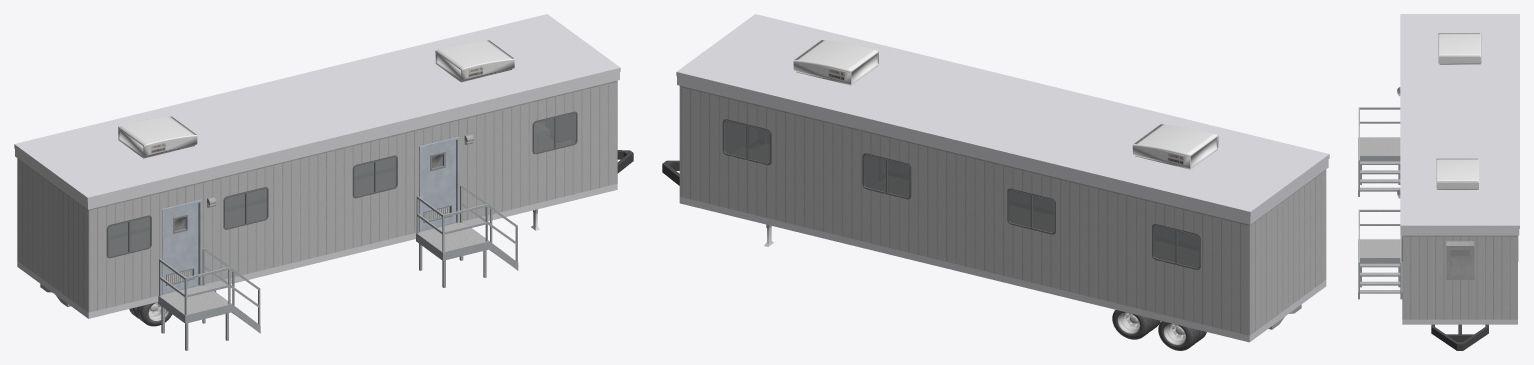
File: jobsite-trailer-10x50.glb
The picture shows the model from 3 angles, left to right: view 1: azimuth 30°, elevation 25°; view 2: azimuth 150°, elevation 25°; view 3: azimuth 270°, elevation 25°; orthographic projection. The views are drawn at different scales.
Visible parts, largest first — view 1: Geom3D_7, Geom3D_10, Geom3D_3, Geom3D_8, Geom3D_13, Geom3D_16, Geom3D_9, Geom3D_12, Geom3D_4, Geom3D_23; view 2: Geom3D_7, Geom3D_10, Geom3D_13, Geom3D_16, Geom3D_12, Geom3D_4, Geom3D_35, Geom3D_31; view 3: Geom3D_10, Geom3D_7, Geom3D_16, Geom3D_8, Geom3D_9, Geom3D_4, Geom3D_26, Geom3D_24.
Part boxes in pixels (x1=…): Geom3D_7: x1=17, y1=82, x2=617, y2=312; Geom3D_10: x1=14, y1=14, x2=620, y2=318; Geom3D_3: x1=162, y1=137, x2=459, y2=295; Geom3D_8: x1=158, y1=185, x2=518, y2=350; Geom3D_13: x1=108, y1=113, x2=575, y2=256; Geom3D_16: x1=118, y1=40, x2=514, y2=158; Geom3D_9: x1=161, y1=222, x2=485, y2=314; Geom3D_12: x1=106, y1=111, x2=577, y2=258; Geom3D_4: x1=17, y1=80, x2=617, y2=306; Geom3D_23: x1=166, y1=152, x2=451, y2=285; Geom3D_7: x1=679, y1=87, x2=1326, y2=335; Geom3D_10: x1=676, y1=14, x2=1329, y2=342; Geom3D_13: x1=724, y1=121, x2=1198, y2=267; Geom3D_16: x1=793, y1=40, x2=1218, y2=169; Geom3D_12: x1=722, y1=119, x2=1200, y2=269; Geom3D_4: x1=679, y1=86, x2=1326, y2=329; Geom3D_35: x1=1112, y1=310, x2=1206, y2=350; Geom3D_31: x1=764, y1=227, x2=1186, y2=345; Geom3D_10: x1=1400, y1=14, x2=1519, y2=324; Geom3D_7: x1=1402, y1=236, x2=1517, y2=319; Geom3D_16: x1=1397, y1=33, x2=1481, y2=198; Geom3D_8: x1=1358, y1=107, x2=1402, y2=299; Geom3D_9: x1=1360, y1=137, x2=1400, y2=292; Geom3D_4: x1=1402, y1=235, x2=1517, y2=279; Geom3D_26: x1=1431, y1=324, x2=1488, y2=350; Geom3D_24: x1=1450, y1=250, x2=1469, y2=265.
Bounding box in the file's own units: 15.08 × 4.2 × 4.47.
Materials: 29 (17 with a texture image).
